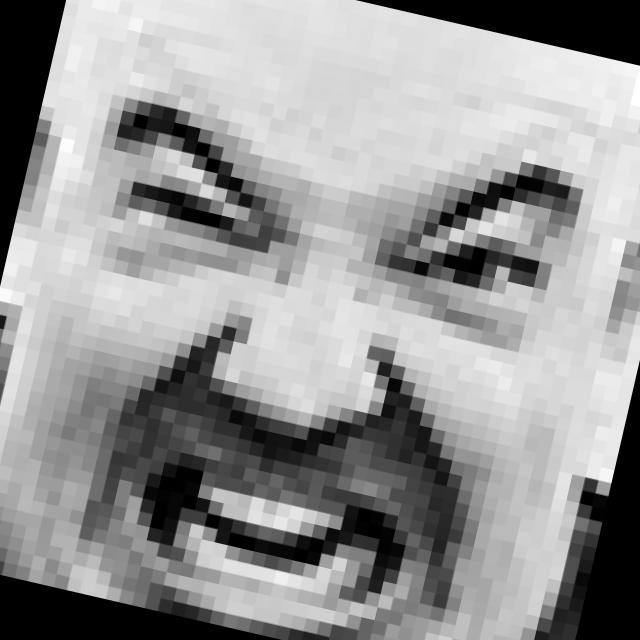angry: (5, 68, 590, 640)
